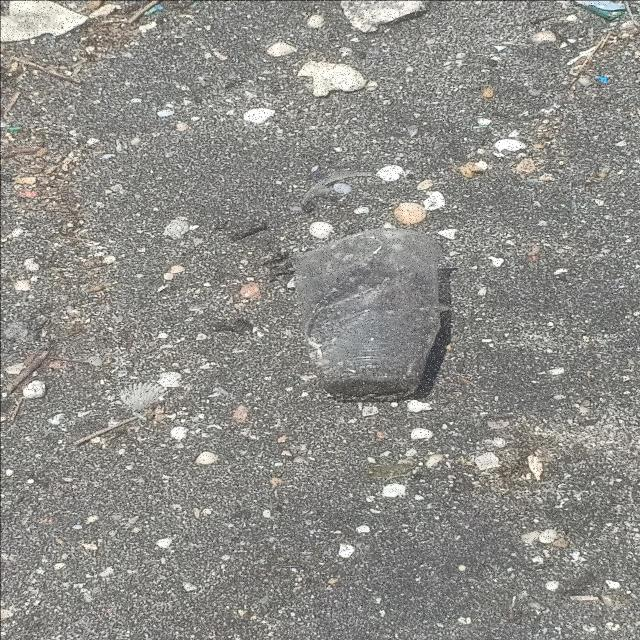plastic_waste: (289, 229, 445, 404)
